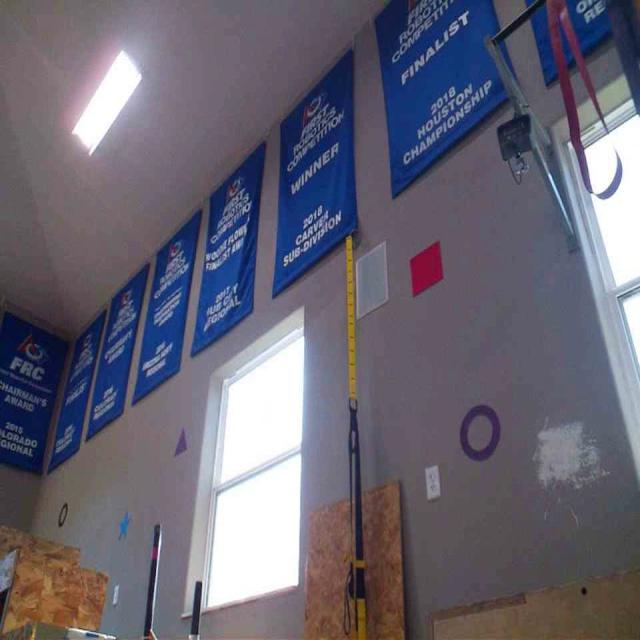ring_black: (56, 500, 69, 526)
ring_purple: (458, 402, 501, 460)
square_red: (408, 238, 445, 296)
star_blue: (117, 510, 133, 539)
triangle_purple: (173, 426, 188, 458)
